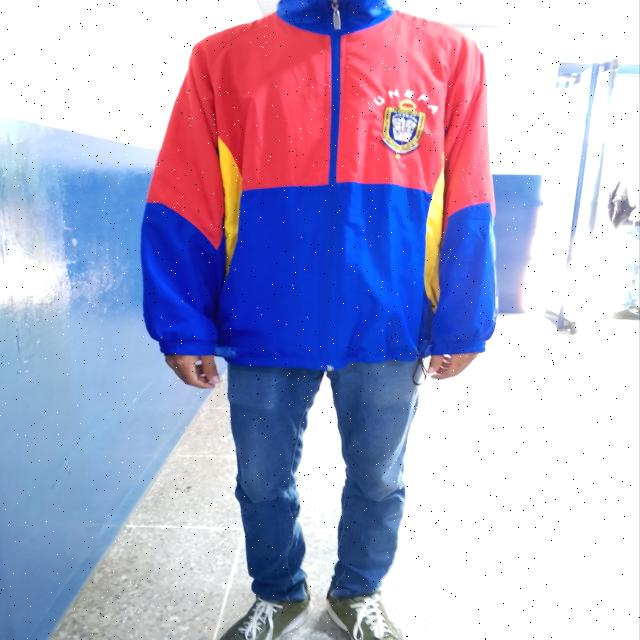chaqueta_unefa: (138, 0, 497, 370)
